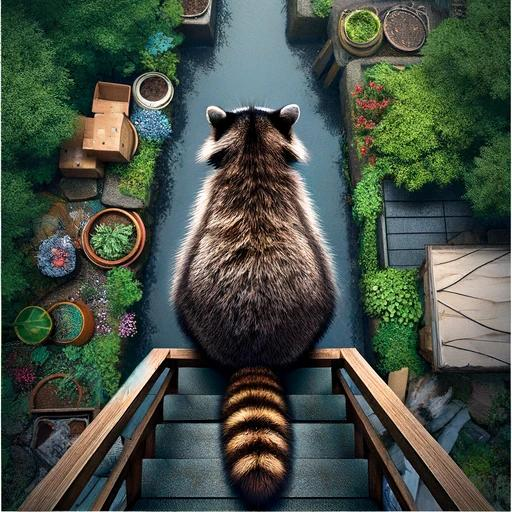raccoon: (162, 95, 361, 512)
